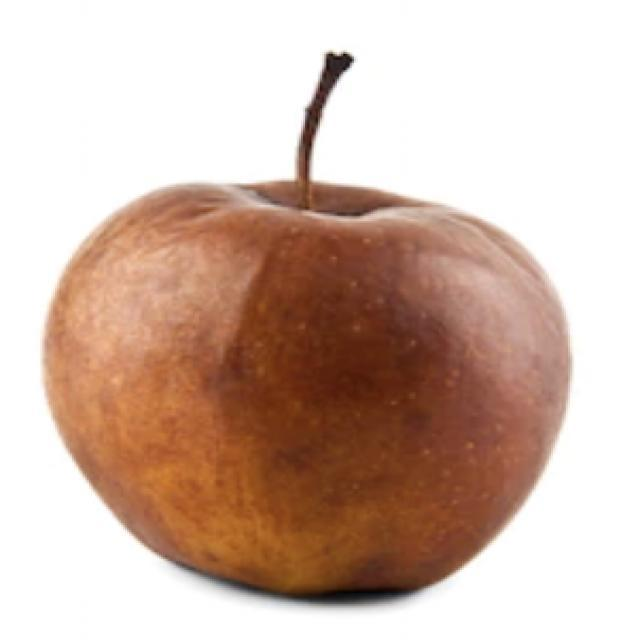Rotten: (62, 150, 563, 568)
